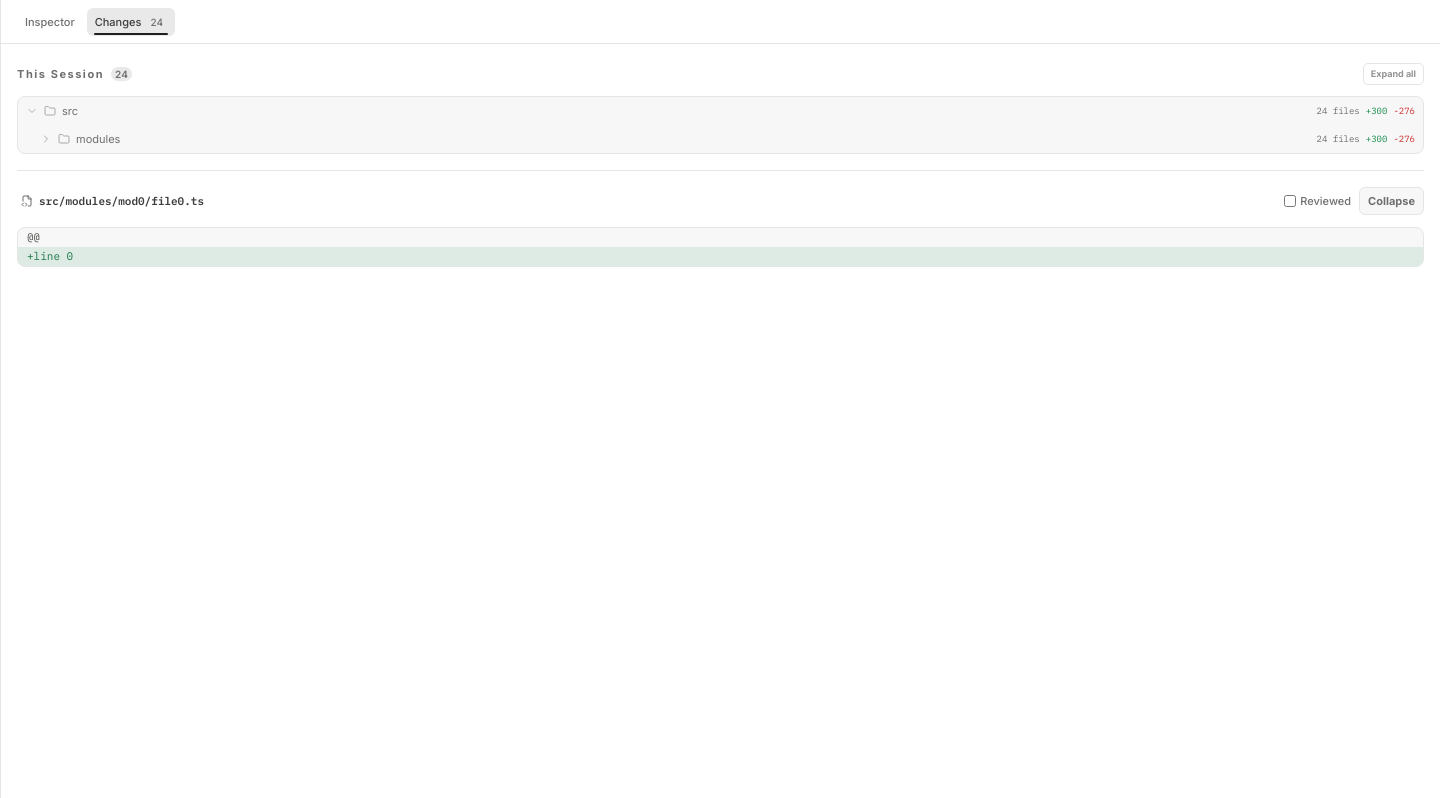
ChangeInspector large sessions › collapses folders by default for large sessions and shows directory stats
The width and height of the screenshot is (1440, 798).
Check: the text "src" is shown, box [62,104,78,118]
Check: the 1st text "24 files" is shown, box [1316,103,1360,119]
# Expand all reveals the files.
What coordinates should you click on to do the following:
click the button with aria-label "Expand all folders"
I would click on:
 (1393, 74)
Its box is [1363,63,1424,85].
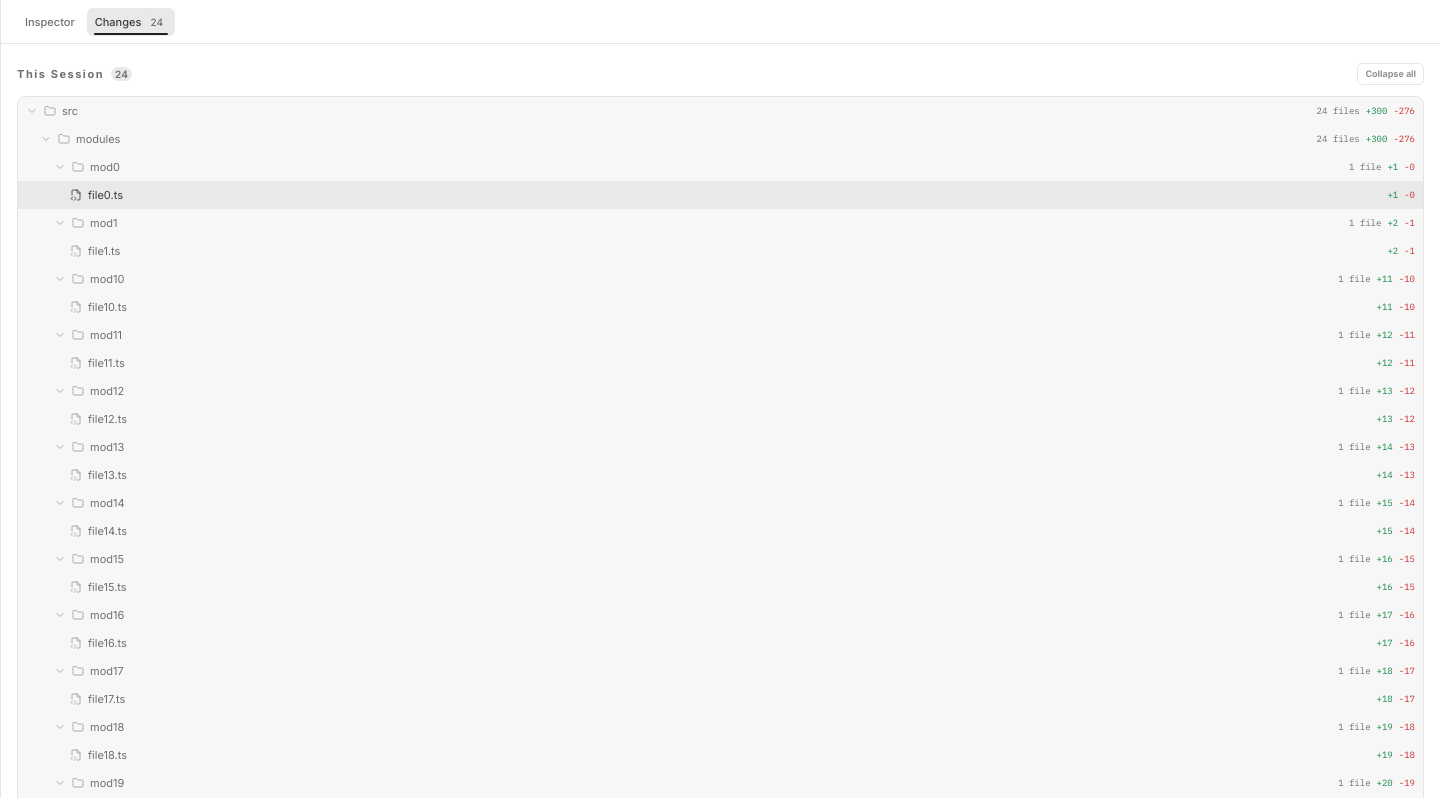
Check: the text "file0.ts" is shown, box [88,188,123,202]
Check: the button with aria-label "Collapse all folders" is shown, box [1357,63,1424,85]
